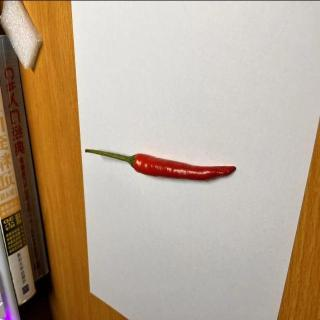Cabai Merah: (85, 149, 237, 181)
